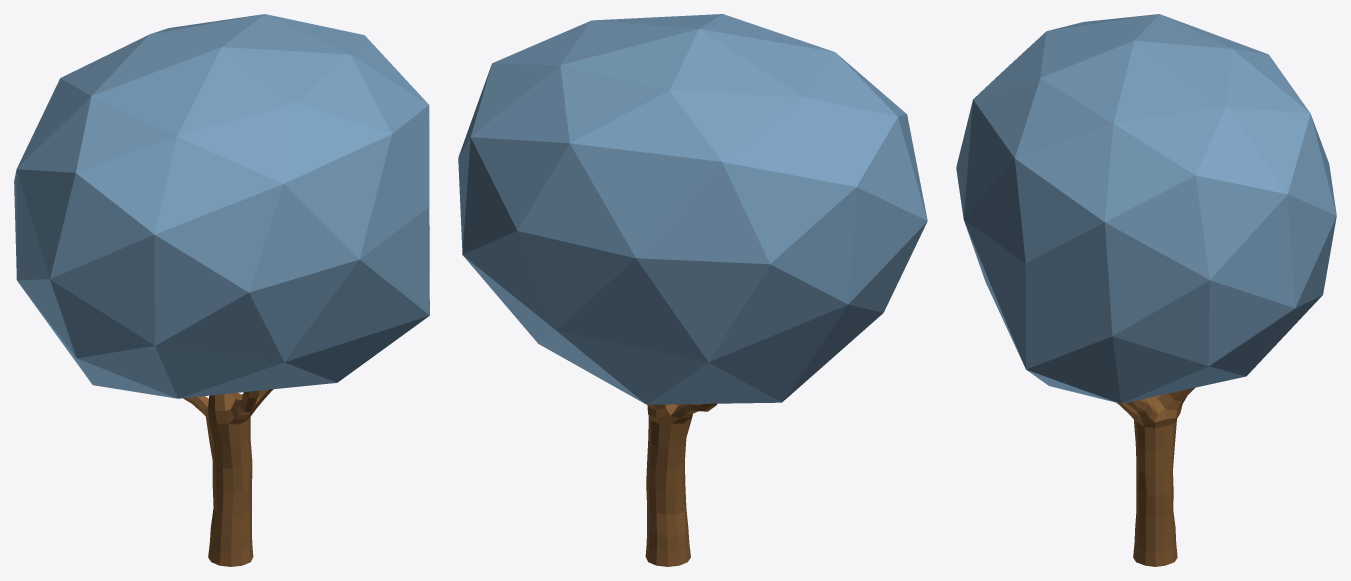
The model's file is Oak.fbx.
3 views of the same model, side by side, from view 1: azimuth 30°, elevation 25°; view 2: azimuth 150°, elevation 25°; view 3: azimuth 270°, elevation 25° (orthographic). The views are drawn at different scales.
Parts seen in each view (by area): view 1: Circle.001, Circle.002; view 2: Circle.001, Circle.002; view 3: Circle.001, Circle.002.
Part boxes in pixels (x1,y1,x2,y2): Circle.001: (14,14,429,536); Circle.002: (208,528,253,566); Circle.001: (458,14,927,538); Circle.002: (645,528,690,566); Circle.001: (956,14,1336,537); Circle.002: (1133,527,1177,566).
Size of the model in its own units: 4546 by 5673 by 3856.
